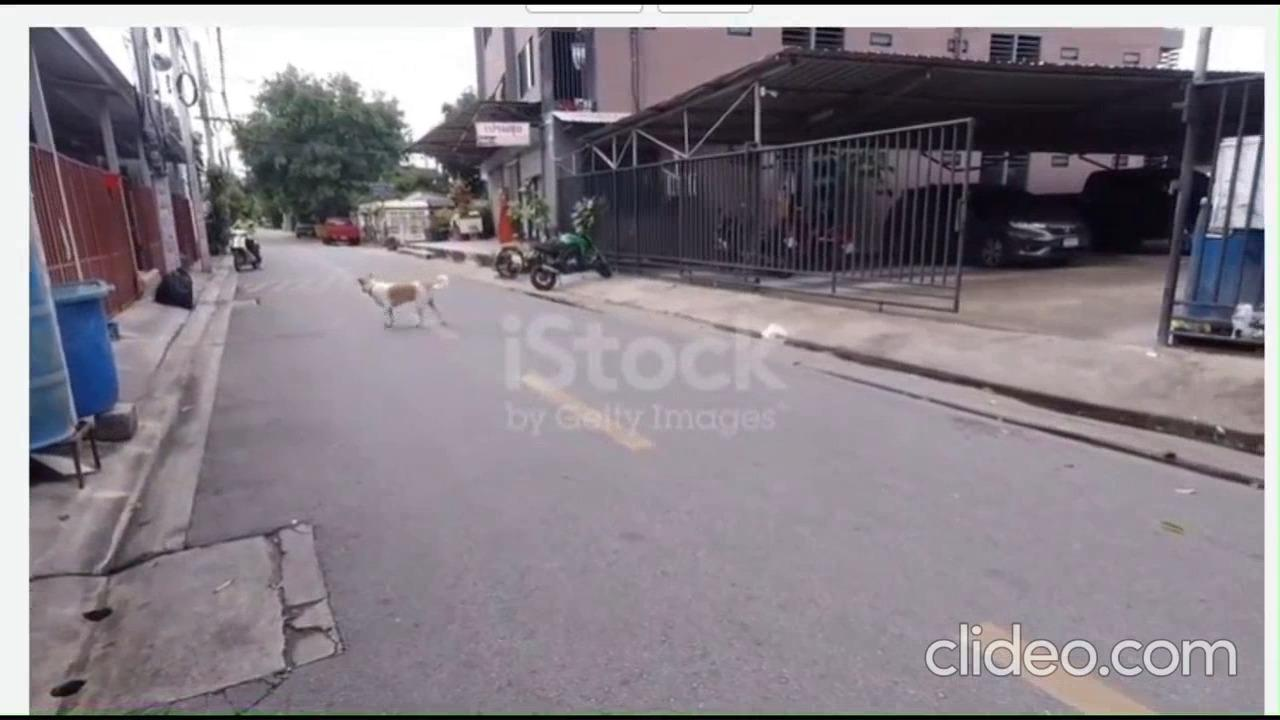dog: (346, 268, 448, 340)
